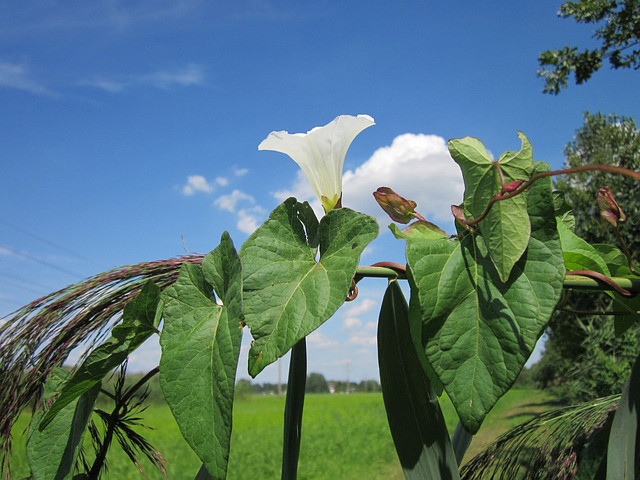haagwinde: (157, 106, 636, 480)
